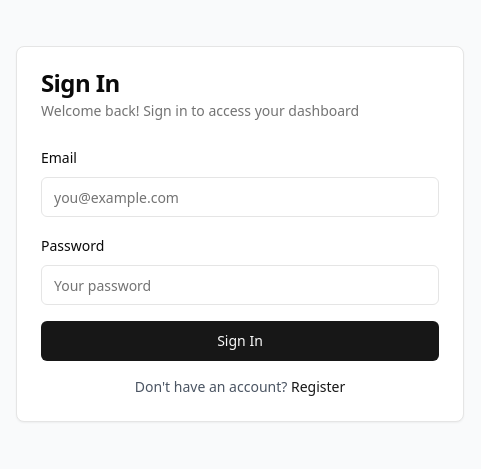
Test: LoginPage › should display error message on login failure
Type "test@example.com" into the field labelled "Email" at {"x": 240, "y": 197}, box [41,177,439,217]
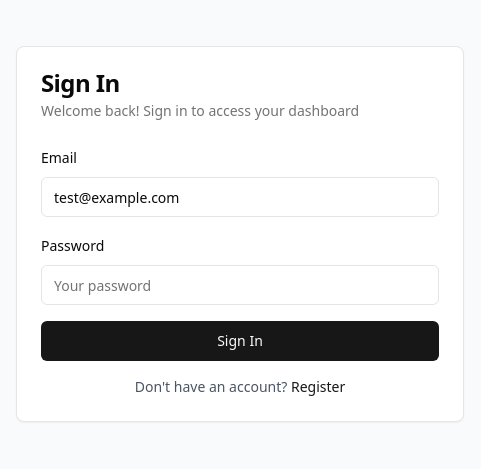
Type "wrongpassword" into the password field labelled "Password" at {"x": 240, "y": 285}, box [41,265,439,305]
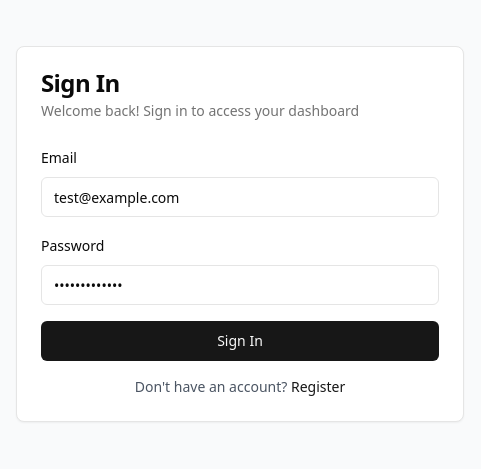
Click the button "Sign In" at {"x": 240, "y": 341}, box [41,321,439,361]
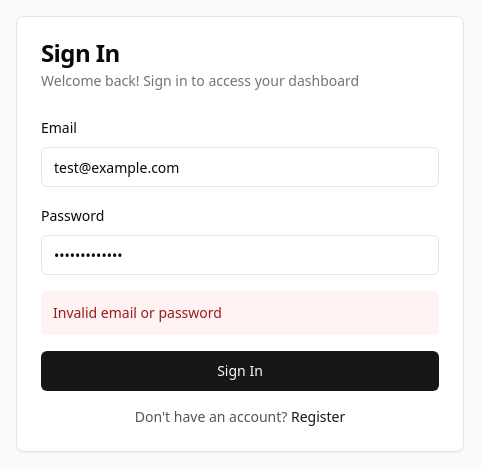
Now the text "Invalid email or password" is shown, box [41,291,439,335]
